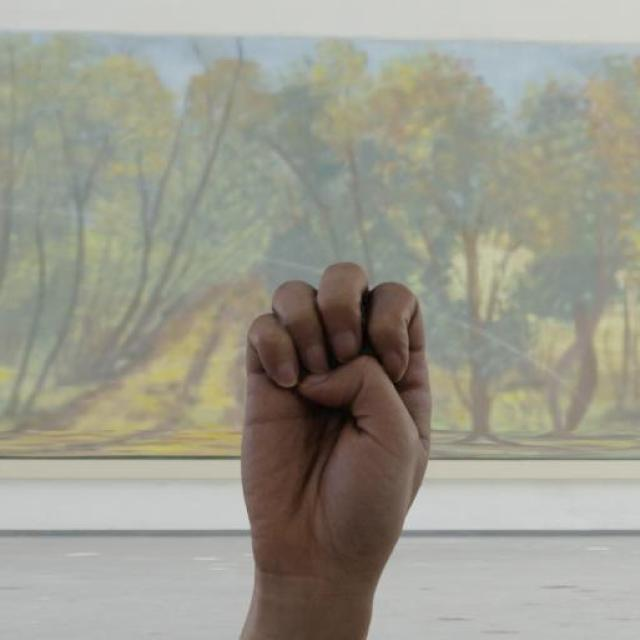E: (232, 256, 438, 548)
